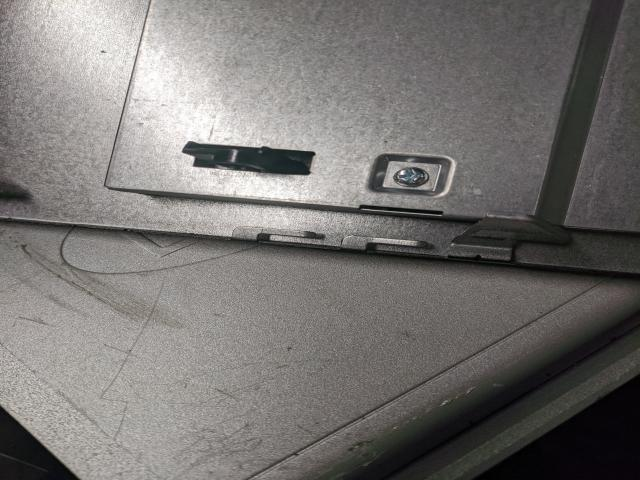CRS: (395, 167, 430, 187)
